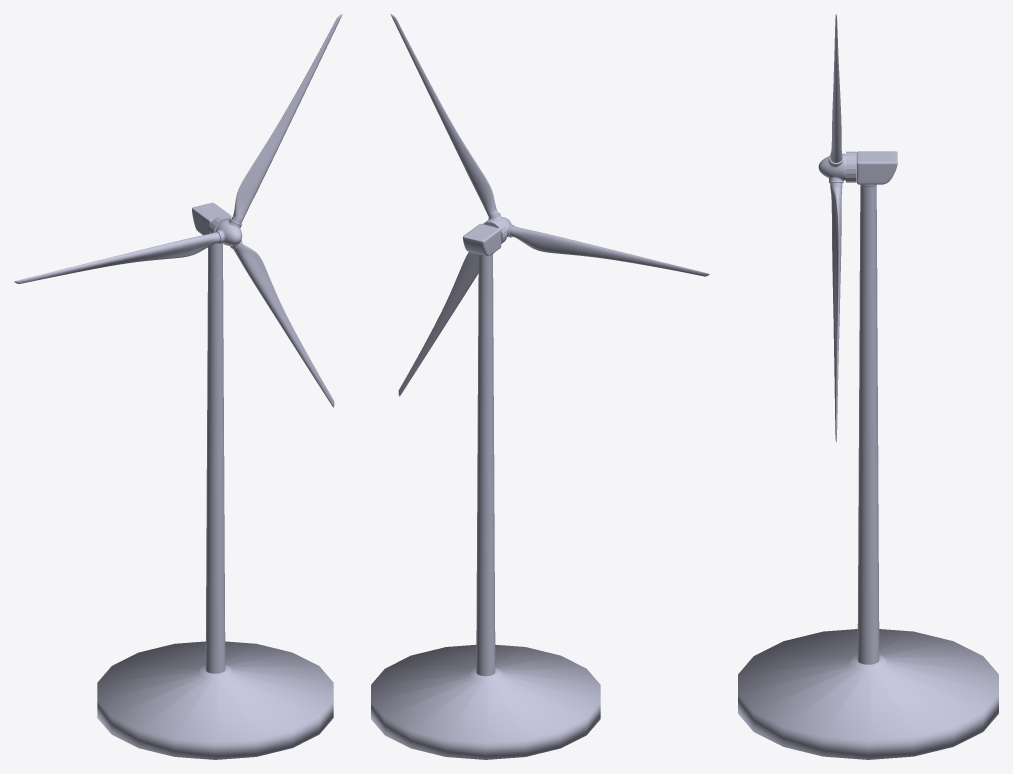
File: zhiqu_baiseshiti.glb
3 renders of one model, left to right at view 1: azimuth 30°, elevation 25°; view 2: azimuth 150°, elevation 25°; view 3: azimuth 270°, elevation 25°, orthographic. The views are drawn at different scales.
Parts seen in each view (by area): view 1: baiseshiti_jichu, baiseshiti_tatong, baiseshiti_yelun, baiseshiti_jicang; view 2: baiseshiti_jichu, baiseshiti_tatong, baiseshiti_yelun, baiseshiti_jicang; view 3: baiseshiti_jichu, baiseshiti_tatong, baiseshiti_yelun, baiseshiti_jicang.
Boxes of the visible parts, bbox=[...] form: baiseshiti_jichu: bbox=[97, 641, 333, 759]; baiseshiti_tatong: bbox=[205, 243, 225, 673]; baiseshiti_yelun: bbox=[14, 14, 342, 407]; baiseshiti_jicang: bbox=[192, 202, 231, 235]; baiseshiti_jichu: bbox=[371, 644, 600, 759]; baiseshiti_tatong: bbox=[476, 253, 495, 676]; baiseshiti_yelun: bbox=[390, 14, 709, 396]; baiseshiti_jicang: bbox=[462, 223, 501, 256]; baiseshiti_jichu: bbox=[738, 629, 998, 759]; baiseshiti_tatong: bbox=[857, 184, 879, 664]; baiseshiti_yelun: bbox=[818, 14, 845, 441]; baiseshiti_jicang: bbox=[856, 151, 897, 184].
Size of the model in its own units: 7106 by 14026 by 4423.
